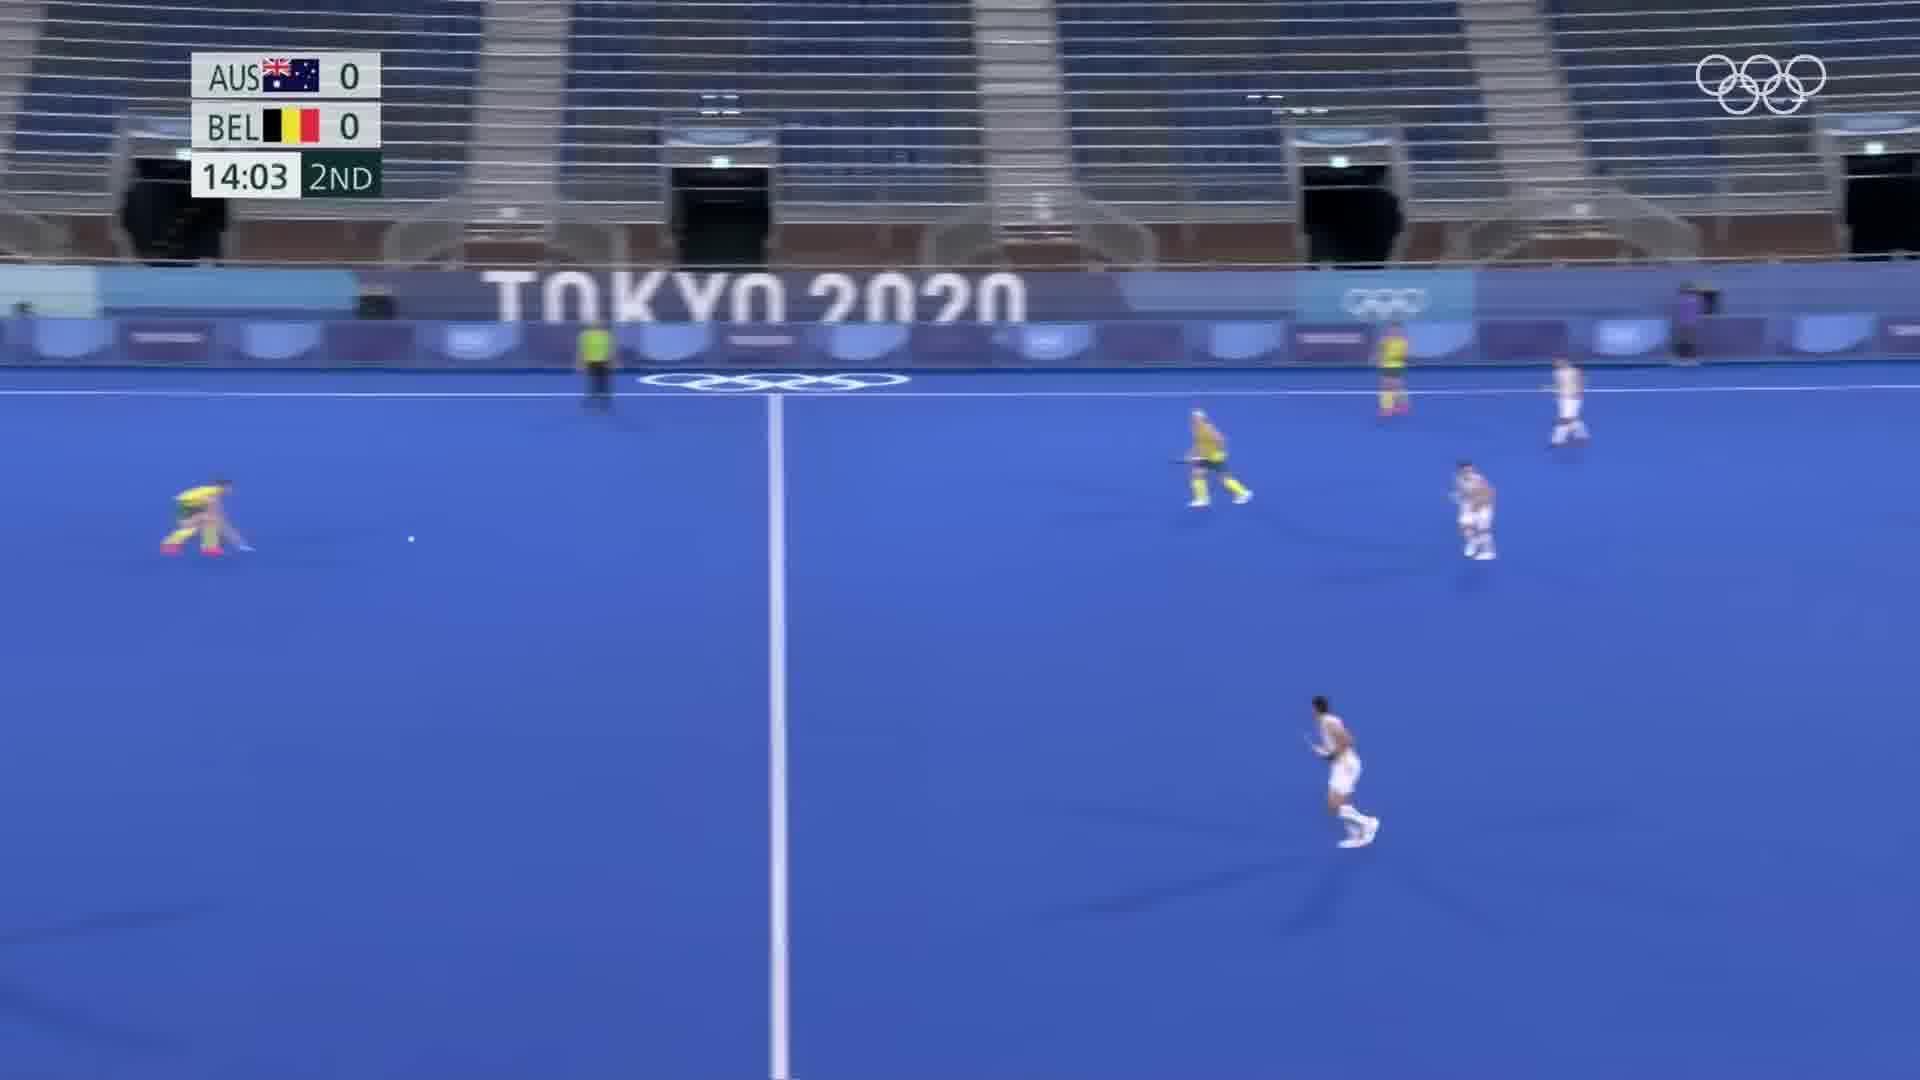ball: (398, 527, 423, 549)
